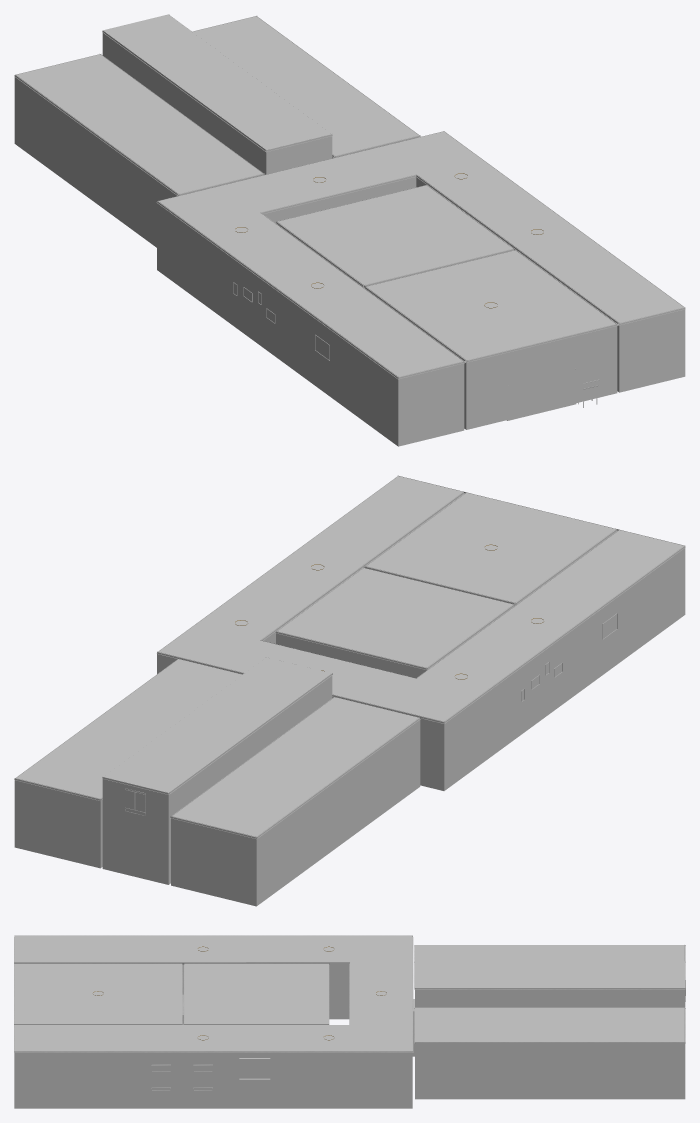
The model's file is Fnaf 4 Room_Sharing.fbx.
3 views of the same model, one above another, from view 1: azimuth 30°, elevation 25°; view 2: azimuth 150°, elevation 25°; view 3: azimuth 270°, elevation 25° (orthographic). The views are drawn at different scales.
Parts seen in each view (by area): view 1: Plushtrap, HallL, Bedroom, HallR, Closet, HallF, CeilingFrame; view 2: Plushtrap, HallL, Bedroom, Closet, HallR, HallF, CeilingFrame; view 3: Plushtrap, HallR, HallL, Bedroom, Closet, HallF, CeilingFrame.
Boxes of the visible parts, <box> form: Plushtrap: <box>14,14,420,247</box>; HallL: <box>157,201,464,446</box>; Bedroom: <box>365,250,617,429</box>; HallR: <box>416,131,685,392</box>; Closet: <box>276,185,513,288</box>; HallF: <box>158,131,443,223</box>; CeilingFrame: <box>14,14,685,379</box>; Plushtrap: <box>14,657,420,906</box>; HallL: <box>416,530,685,790</box>; Bedroom: <box>365,492,616,606</box>; Closet: <box>276,568,514,678</box>; HallR: <box>158,476,463,651</box>; HallF: <box>157,640,444,790</box>; CeilingFrame: <box>14,475,685,839</box>; Plushtrap: <box>412,945,685,1099</box>; HallR: <box>14,1025,412,1108</box>; HallL: <box>14,936,411,1019</box>; Bedroom: <box>14,963,182,1024</box>; Closet: <box>184,963,328,1024</box>; HallF: <box>350,936,412,1050</box>; CeilingFrame: <box>14,935,685,1052</box>.
Size of the model in its own units: 1319 by 431 by 3205.
